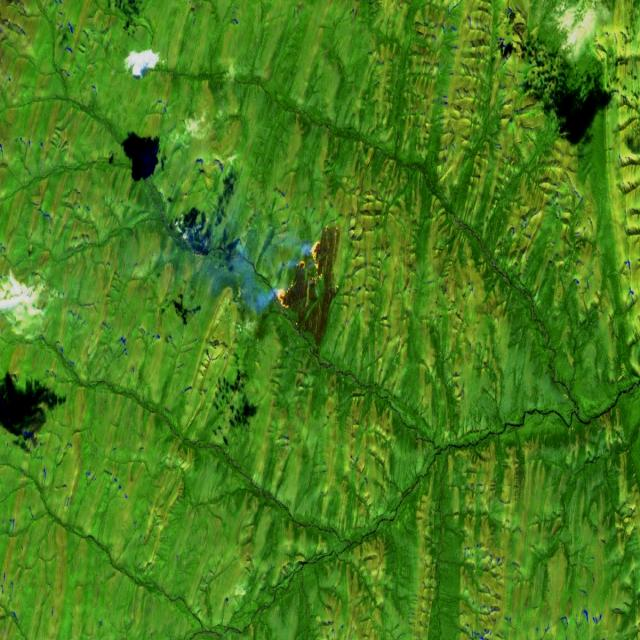fire: (268, 228, 331, 319)
